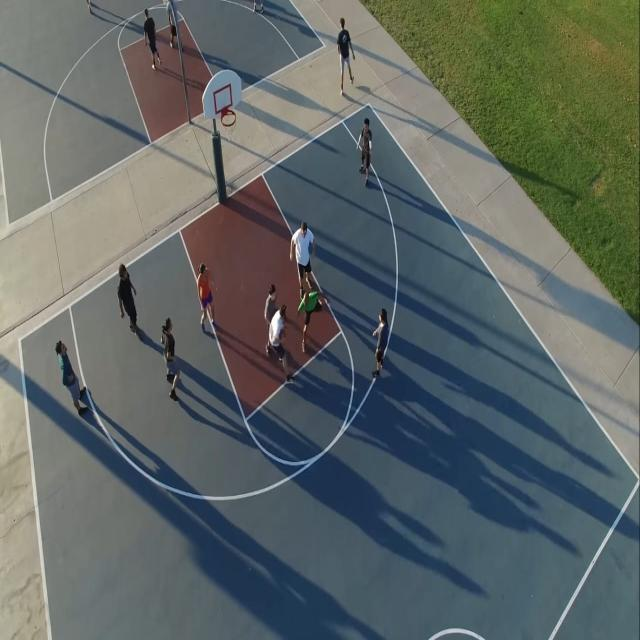humans: (53, 336, 92, 426), (264, 300, 300, 388), (288, 218, 319, 294), (159, 311, 184, 405), (296, 284, 330, 351), (117, 258, 144, 334), (197, 258, 220, 332), (336, 14, 356, 98), (370, 304, 391, 378), (356, 113, 376, 188), (142, 6, 163, 74), (165, 0, 186, 53), (264, 280, 278, 325)
